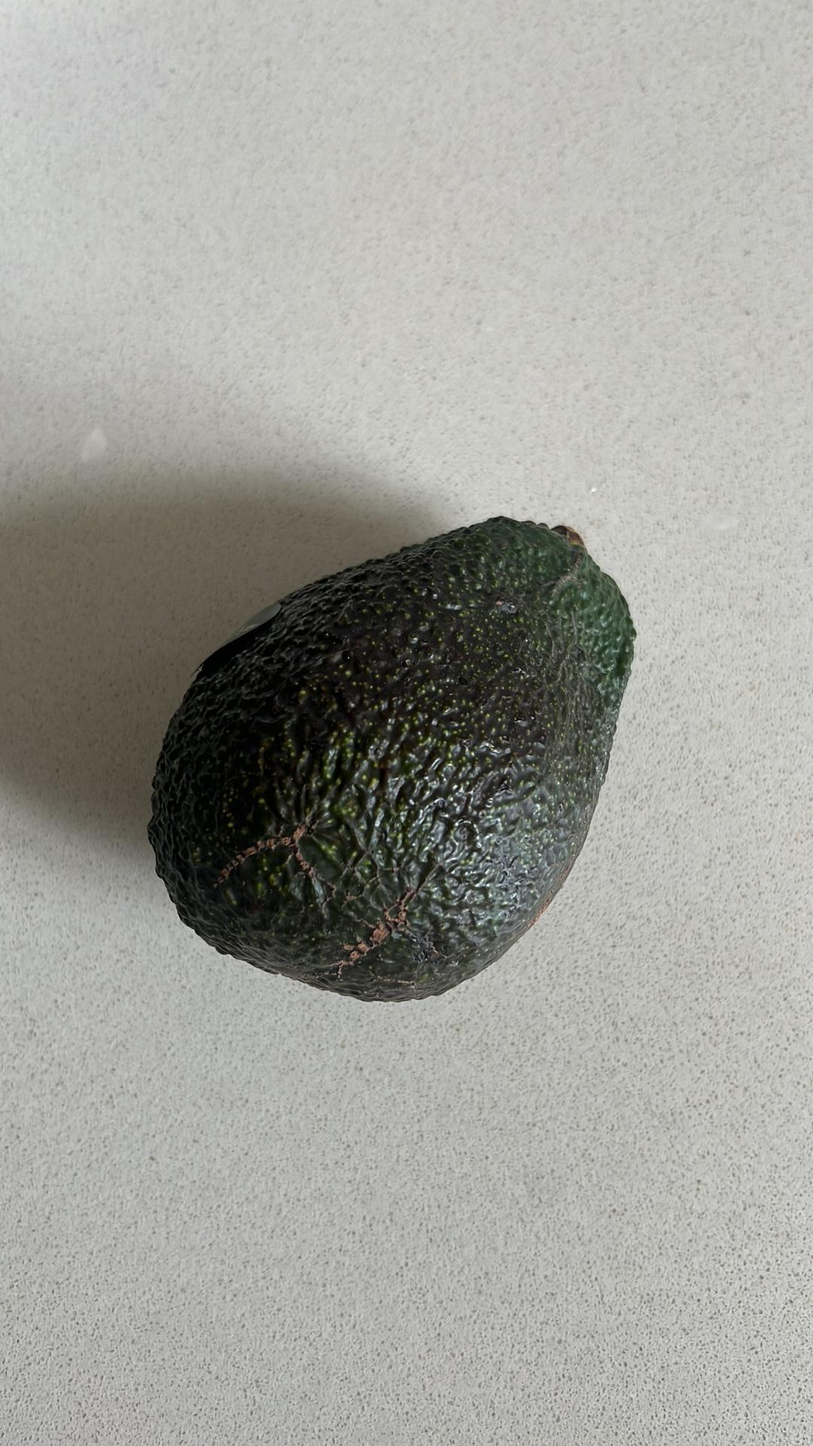avocado: (149, 508, 629, 1011)
